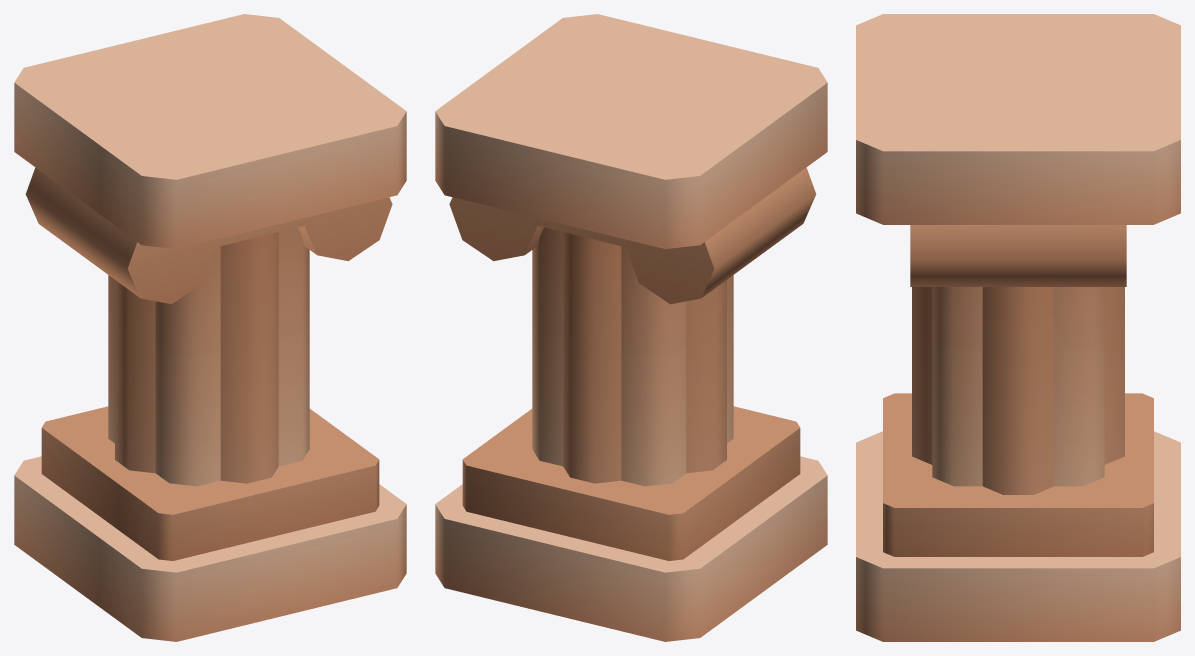
Rendered from column-classic-001.glb.
The picture shows the model from 3 angles, left to right: view 1: azimuth 30°, elevation 25°; view 2: azimuth 150°, elevation 25°; view 3: azimuth 270°, elevation 25°; orthographic projection. The views are drawn at different scales.
Parts seen in each view (by area): view 1: column; view 2: column; view 3: column.
Boxes of the visible parts, <box> form: column: <box>14,14,406,641</box>; column: <box>435,14,827,641</box>; column: <box>856,14,1180,641</box>.
Bounding box in the file's own units: 0.6031 × 1 × 0.6001.
1 material, 1 textured.
